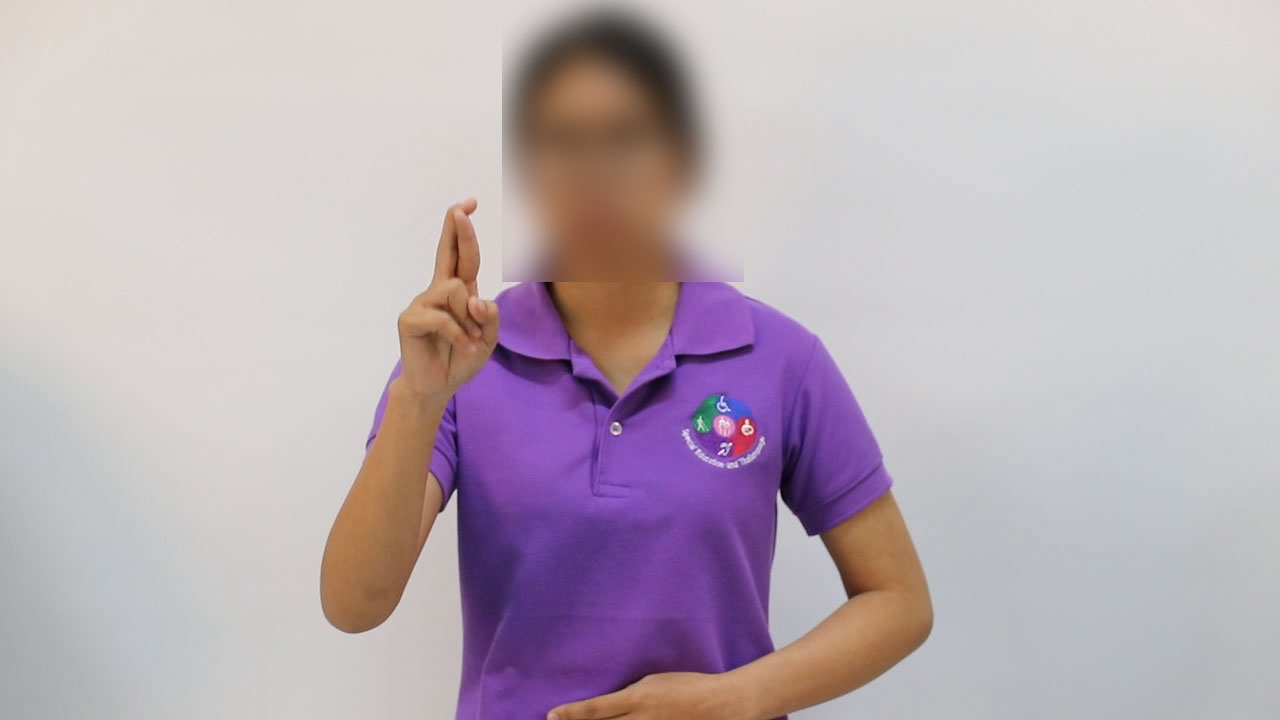rao: (374, 194, 507, 411)
